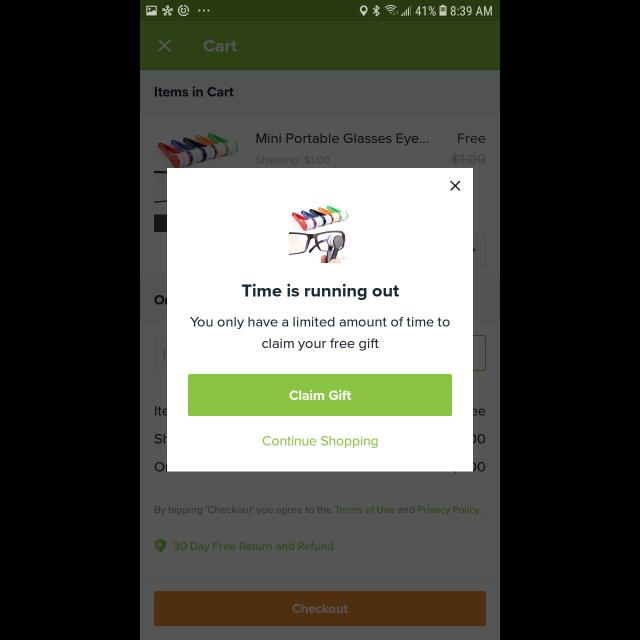icon: (451, 180, 462, 192)
image: (289, 204, 349, 264)
panel: (167, 168, 473, 472)
text: (190, 317, 450, 351), (242, 284, 400, 300), (262, 436, 378, 448)
textbutton: (188, 374, 452, 416)
uppertaskbar: (140, 1, 500, 22)
